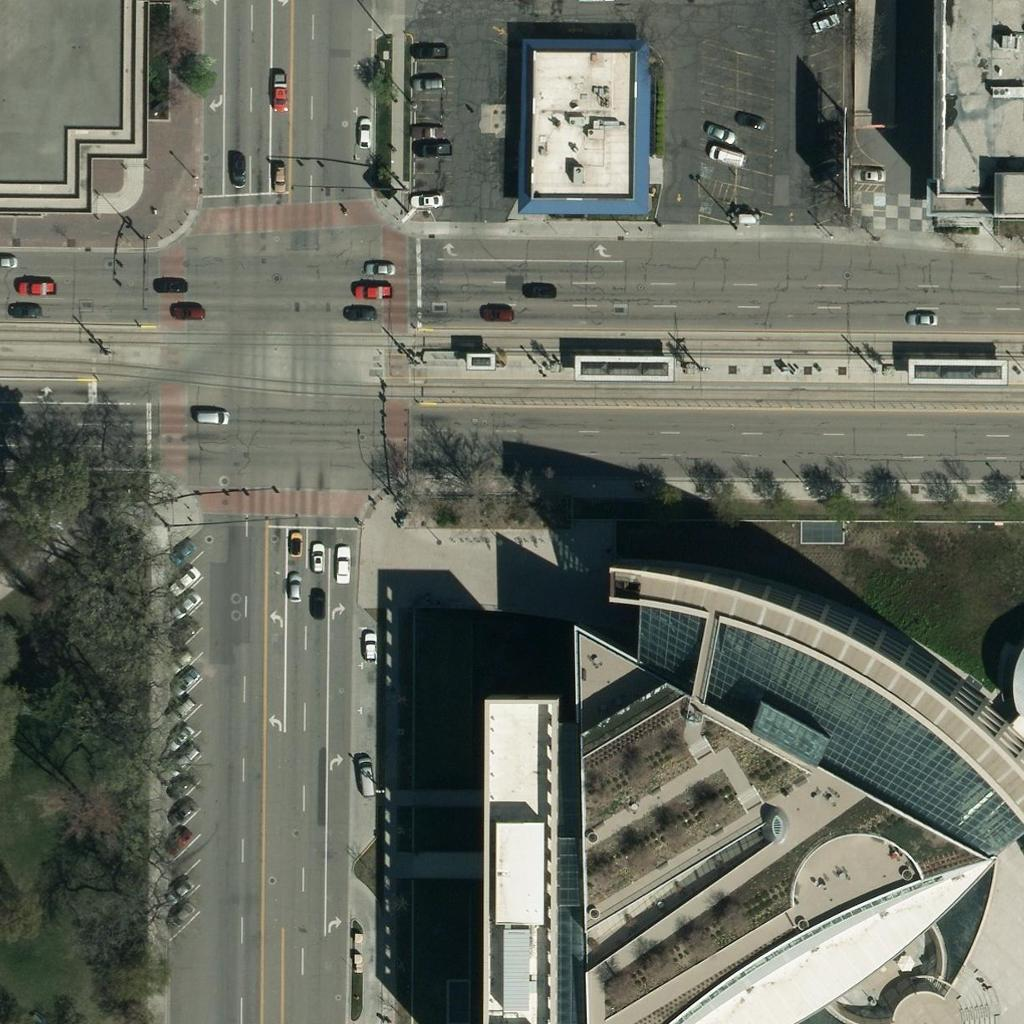car: (808, 4, 842, 38), (407, 33, 441, 67), (412, 67, 446, 101), (262, 76, 296, 110), (735, 103, 769, 137), (409, 114, 443, 148), (701, 116, 735, 150), (347, 117, 381, 151), (416, 131, 450, 165), (708, 140, 742, 174), (220, 152, 254, 186), (809, 155, 843, 189), (851, 156, 885, 190), (263, 159, 297, 193), (410, 183, 444, 217), (362, 251, 396, 285), (154, 267, 188, 301), (20, 271, 54, 305), (520, 271, 554, 305), (356, 275, 390, 309), (9, 294, 43, 328), (484, 295, 518, 329), (176, 297, 210, 331), (344, 297, 378, 331), (906, 300, 940, 334), (196, 399, 230, 433), (276, 527, 310, 561), (164, 534, 198, 568), (301, 541, 335, 575), (326, 548, 360, 582), (168, 563, 202, 597), (276, 571, 310, 605), (299, 585, 333, 619), (168, 587, 202, 621), (166, 613, 200, 647), (353, 629, 387, 663), (161, 642, 195, 676), (166, 664, 200, 698), (164, 693, 198, 727), (163, 718, 197, 752), (165, 743, 199, 777), (349, 755, 383, 789), (166, 766, 200, 800), (163, 794, 197, 828), (162, 824, 196, 858), (163, 873, 197, 907), (164, 897, 198, 931), (0, 243, 22, 277), (811, 0, 845, 17)
